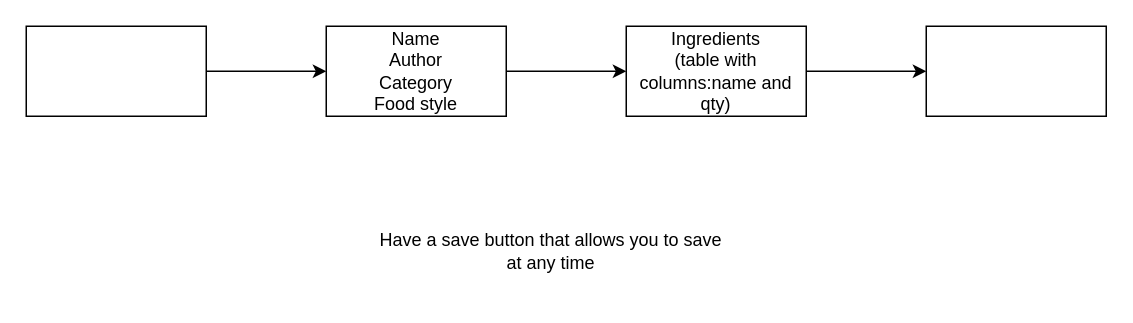
Some shapes in this 1133 by 323 pixel diagram are drawn without their labels. The shapes that lost their labels are listed below. From the top down, each one's centre as x and y in pixels, then its label:
(115,70): Add a card
(1015,70): Instructions (separated by bullet points?)
